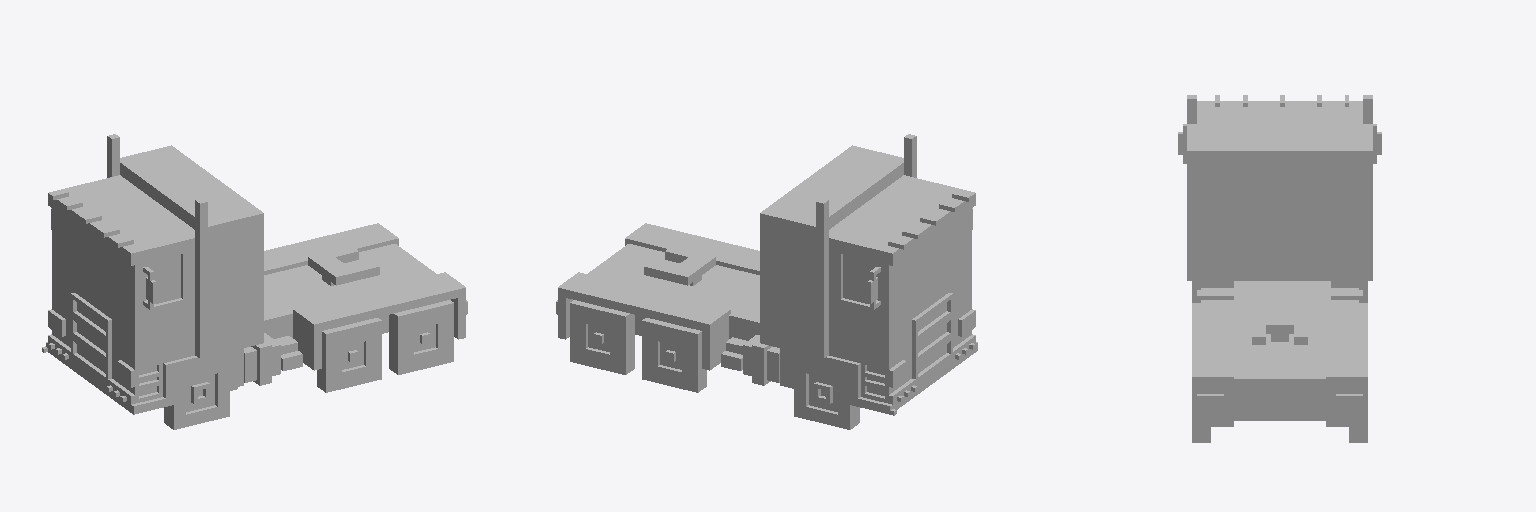
The model's file is alll cars3-154.obj.
3 views of the same model, side by side, from view 1: azimuth 30°, elevation 25°; view 2: azimuth 150°, elevation 25°; view 3: azimuth 270°, elevation 25° (orthographic).
Parts seen in each view (by area): view 1: object 1; view 2: object 1; view 3: object 1.
Boxes of the visible parts, <box> form: object 1: <box>42,134,467,429</box>; object 1: <box>556,134,977,429</box>; object 1: <box>1178,95,1381,442</box>.
Bounding box in the file's own units: 8.5 × 5.3 × 4.4.